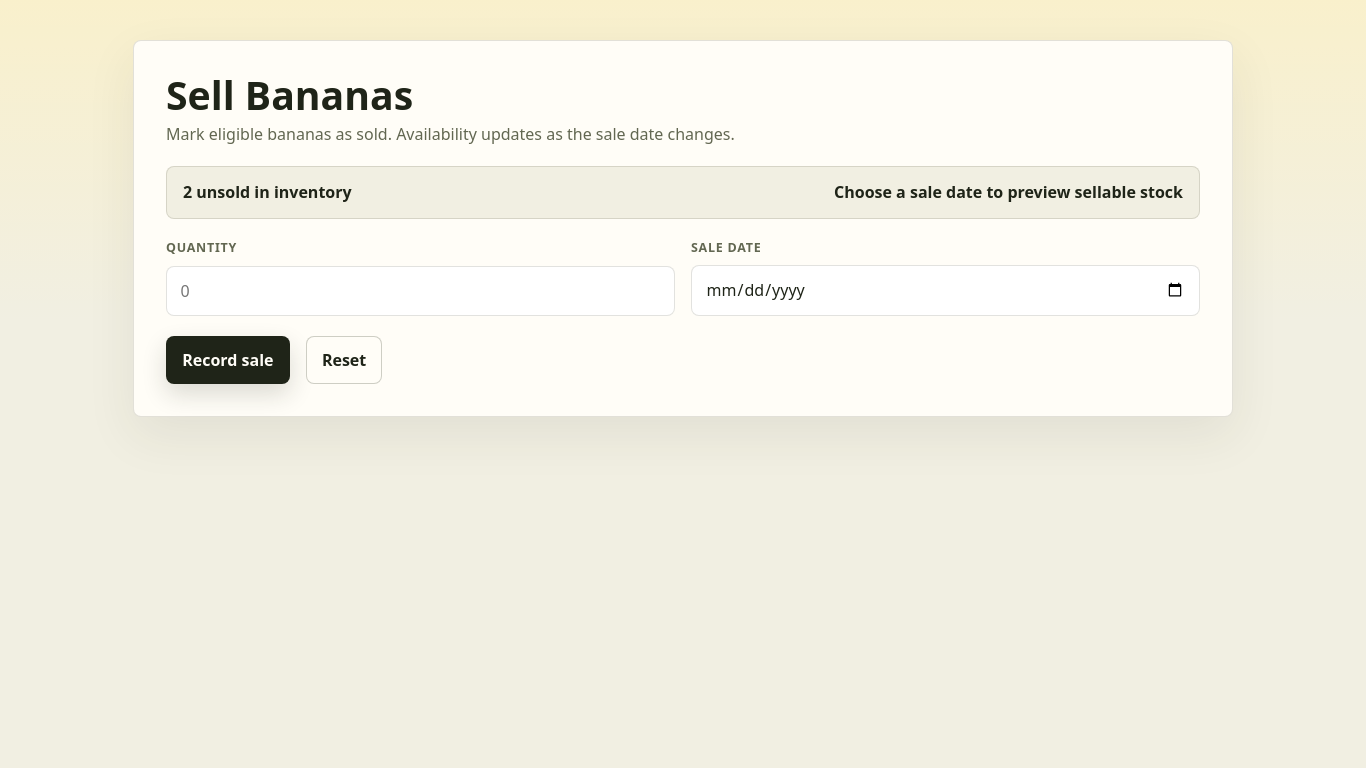
Sell › shows inventory constraints before submitting
This screenshot has width=1366, height=768.
expect the text "2 unsold in inventory" is shown: met, box [183,180,352,204]
Type "2026-03-05" into the date field labelled "Sale date" at (946, 290), box [691,265,1200,316]
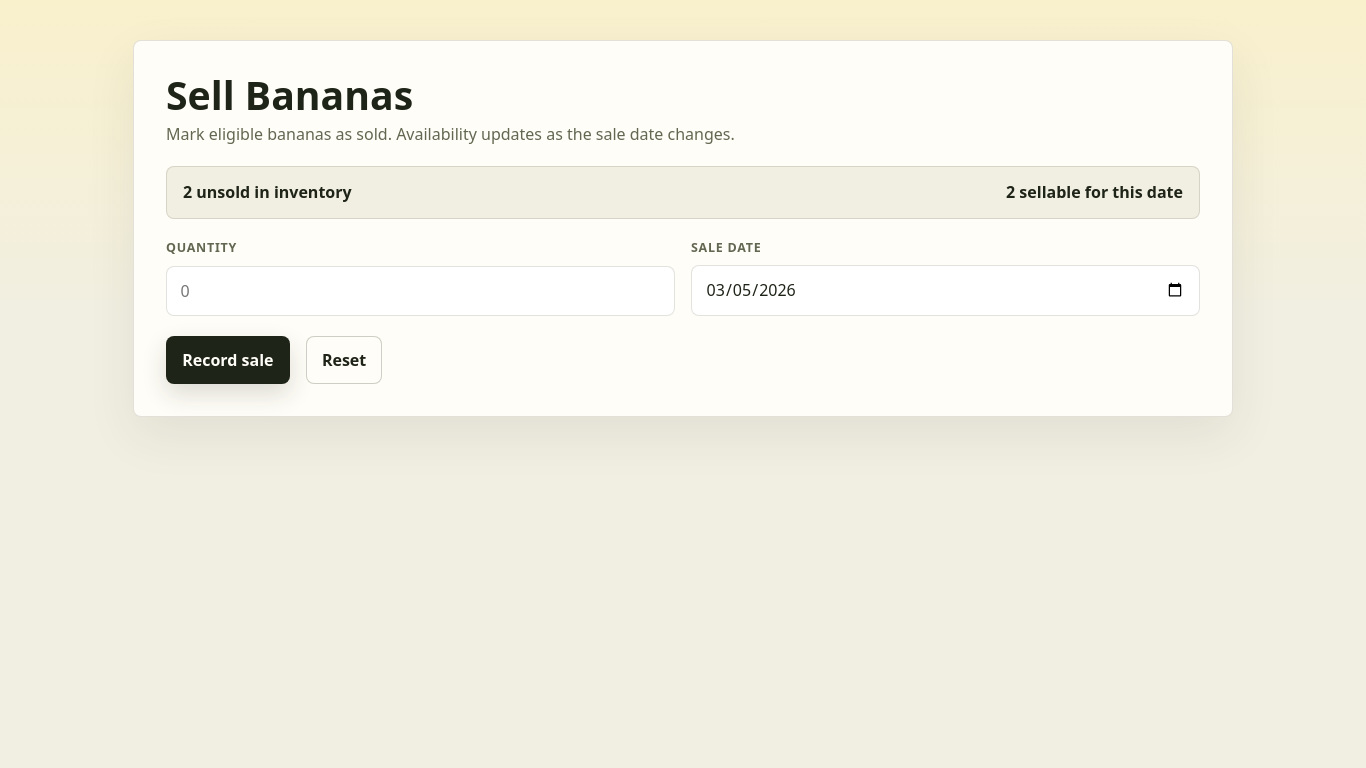
Type "3" into the number field labelled "Quantity" at (420, 291), box [166,266,675,316]
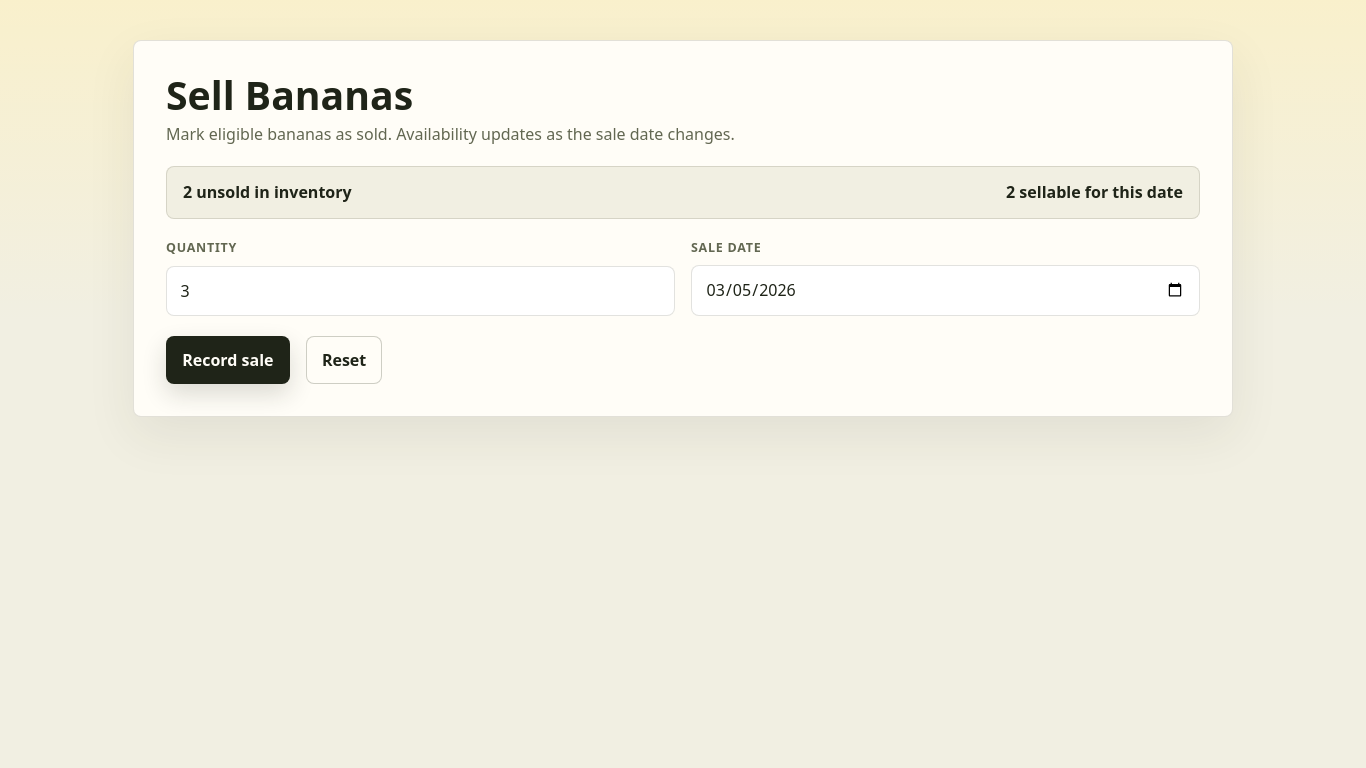
Click the button "Record sale" at (228, 360), box [166,336,290,384]
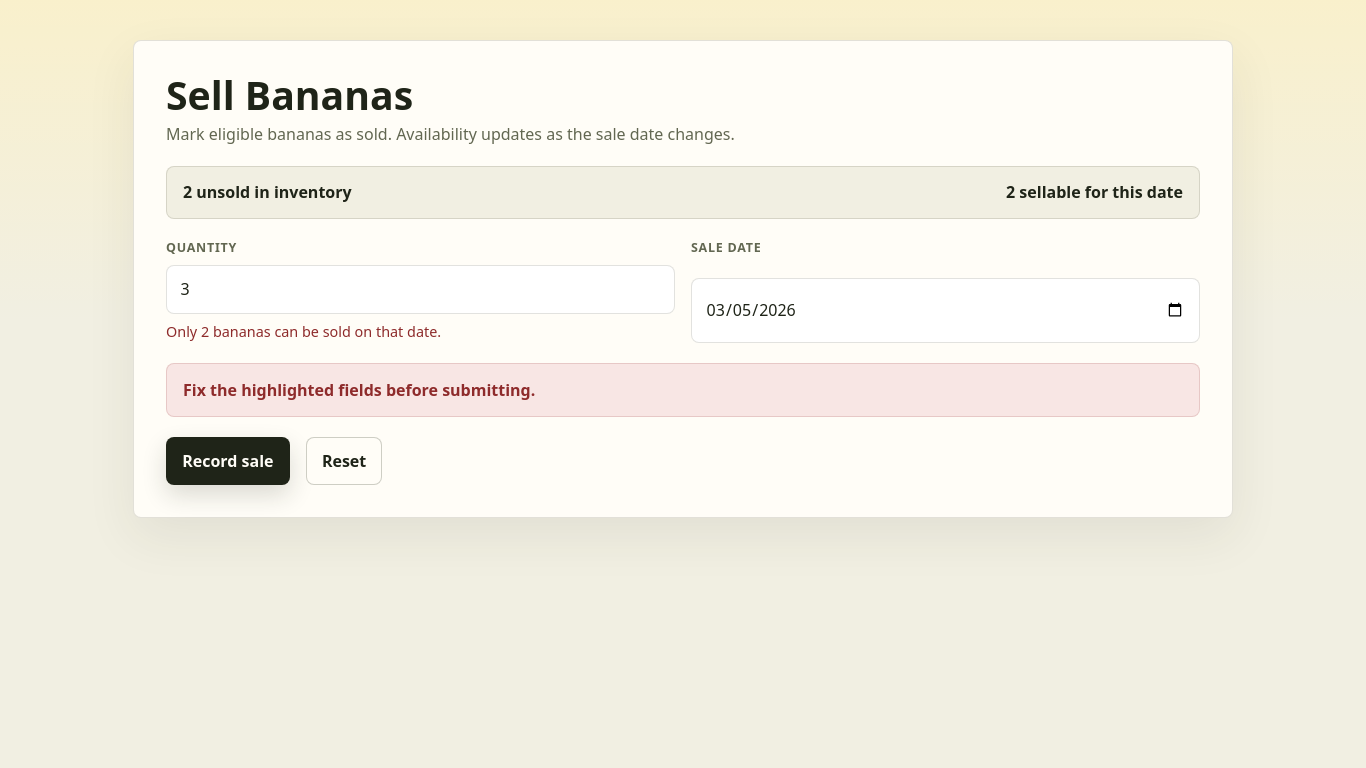
expect the text "Only 2 bananas can be sold on that date." is shown: met, box [166,322,441,341]
